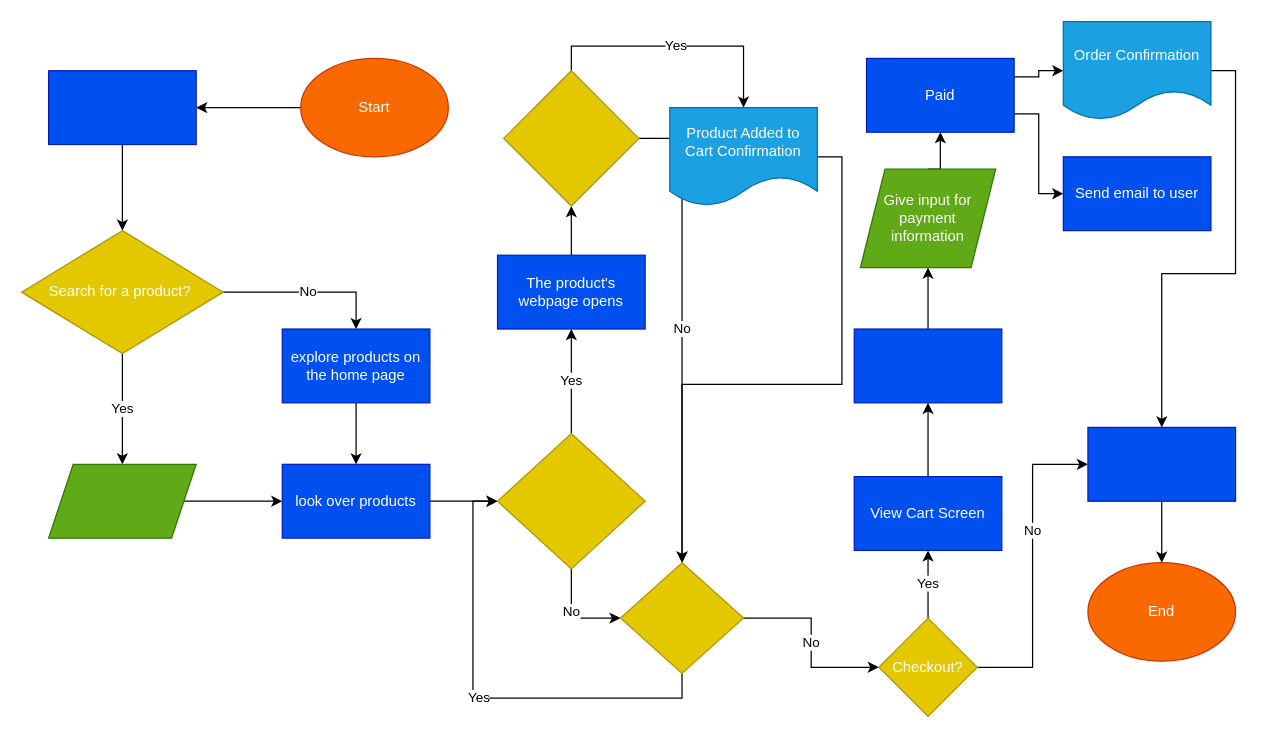
The diagram is 1267 pixels wide and 738 high, and some of its shapes have lost their labels. The centre of each missing label's shape, as x and y in pixels:
"Add this product to cart?" belongs at [570,137].
"Continue Shopping?" belongs at [681,617].
"Input for Serach Product" belongs at [121,500].
"Leave the page" belongs at [1161,463].
"User enters home page" belongs at [121,107].
"View a specific product?" belongs at [570,500].
"View Payment Screen" belongs at [927,365].
